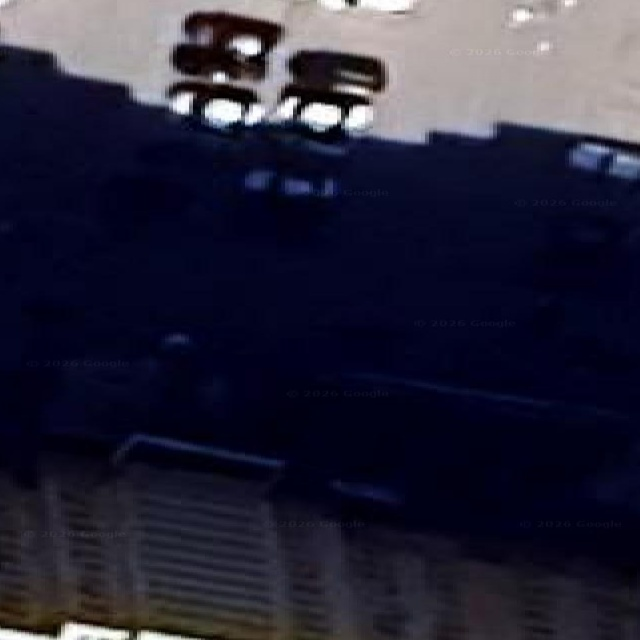car: (172, 12, 281, 79), (167, 81, 263, 131), (567, 141, 639, 179), (318, 0, 415, 12)
